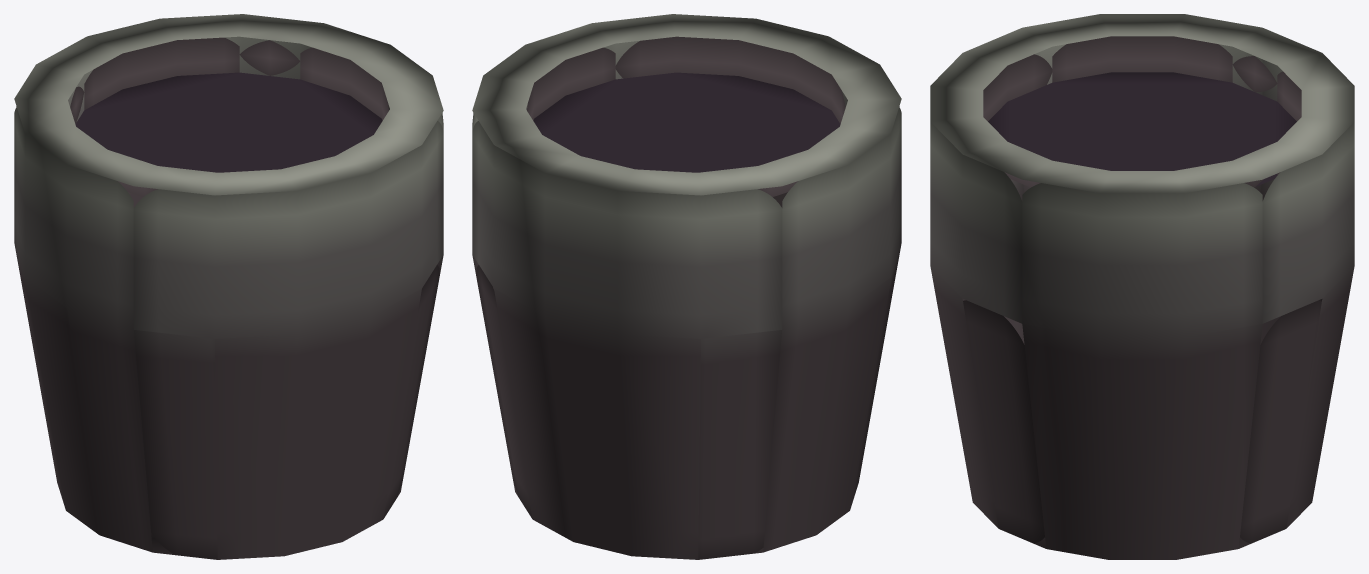
The model's file is pottedNoPlant.fbx.
3 views of the same model, side by side, from view 1: azimuth 30°, elevation 25°; view 2: azimuth 150°, elevation 25°; view 3: azimuth 270°, elevation 25° (orthographic).
Parts seen in each view (by area): view 1: pottedNoPlant; view 2: pottedNoPlant; view 3: pottedNoPlant.
Boxes of the visible parts, x1,y1,x2,y2 form: pottedNoPlant: [14, 14, 443, 559]; pottedNoPlant: [472, 14, 901, 559]; pottedNoPlant: [930, 14, 1354, 559].
Bounding box in the file's own units: 100 × 100 × 100.
